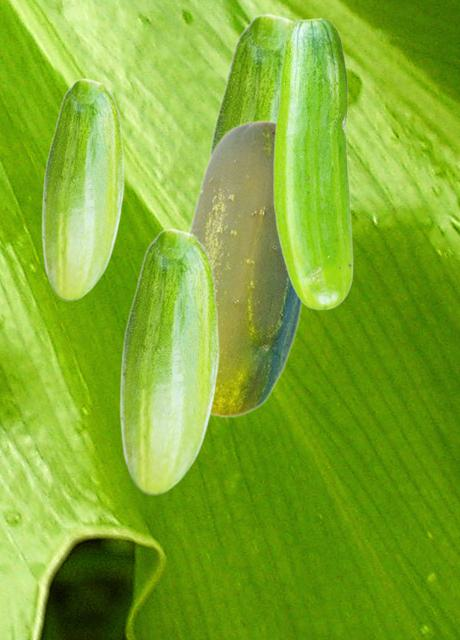cucumber: (186, 119, 304, 417), (119, 228, 218, 494), (273, 17, 352, 309), (41, 78, 123, 300), (206, 13, 295, 161)
